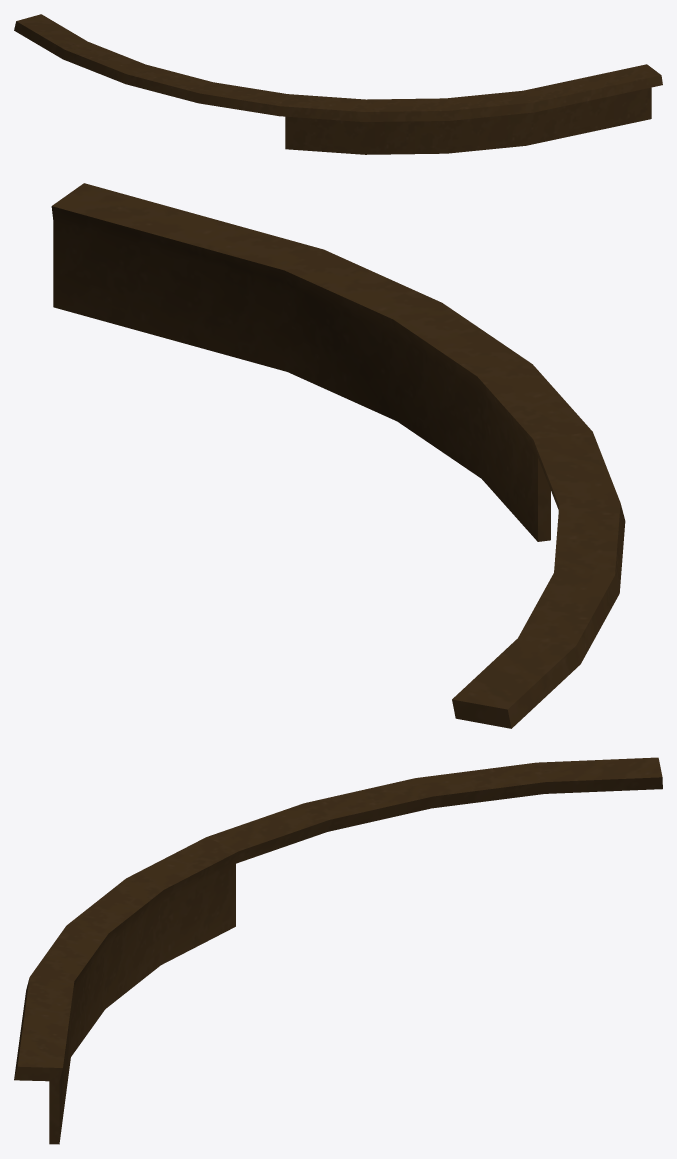
The model's file is L1_Market_P2 1.fbx.
3 views of the same model, one above another, from view 1: azimuth 30°, elevation 25°; view 2: azimuth 150°, elevation 25°; view 3: azimuth 270°, elevation 25° (orthographic). The views are drawn at different scales.
Parts seen in each view (by area): view 1: L1_Market_P2; view 2: L1_Market_P2; view 3: L1_Market_P2.
Part boxes in pixels (box(x1,y1,x2,y2)): L1_Market_P2: box(14, 14, 662, 154); L1_Market_P2: box(51, 183, 625, 728); L1_Market_P2: box(14, 757, 662, 1144).
Size of the model in its own units: 871 by 100 by 767.
1 material, 1 textured.
